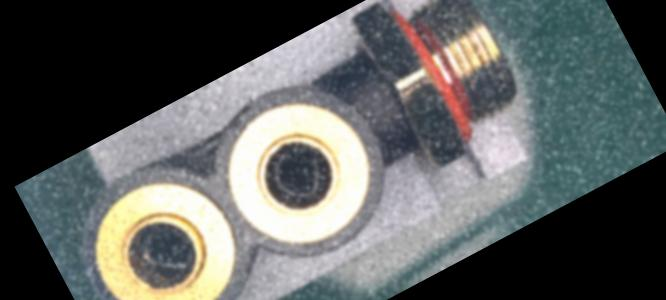bump: (218, 100, 258, 132)
off-centered: (260, 136, 335, 210), (128, 212, 204, 285)
white mark: (375, 110, 399, 133)
